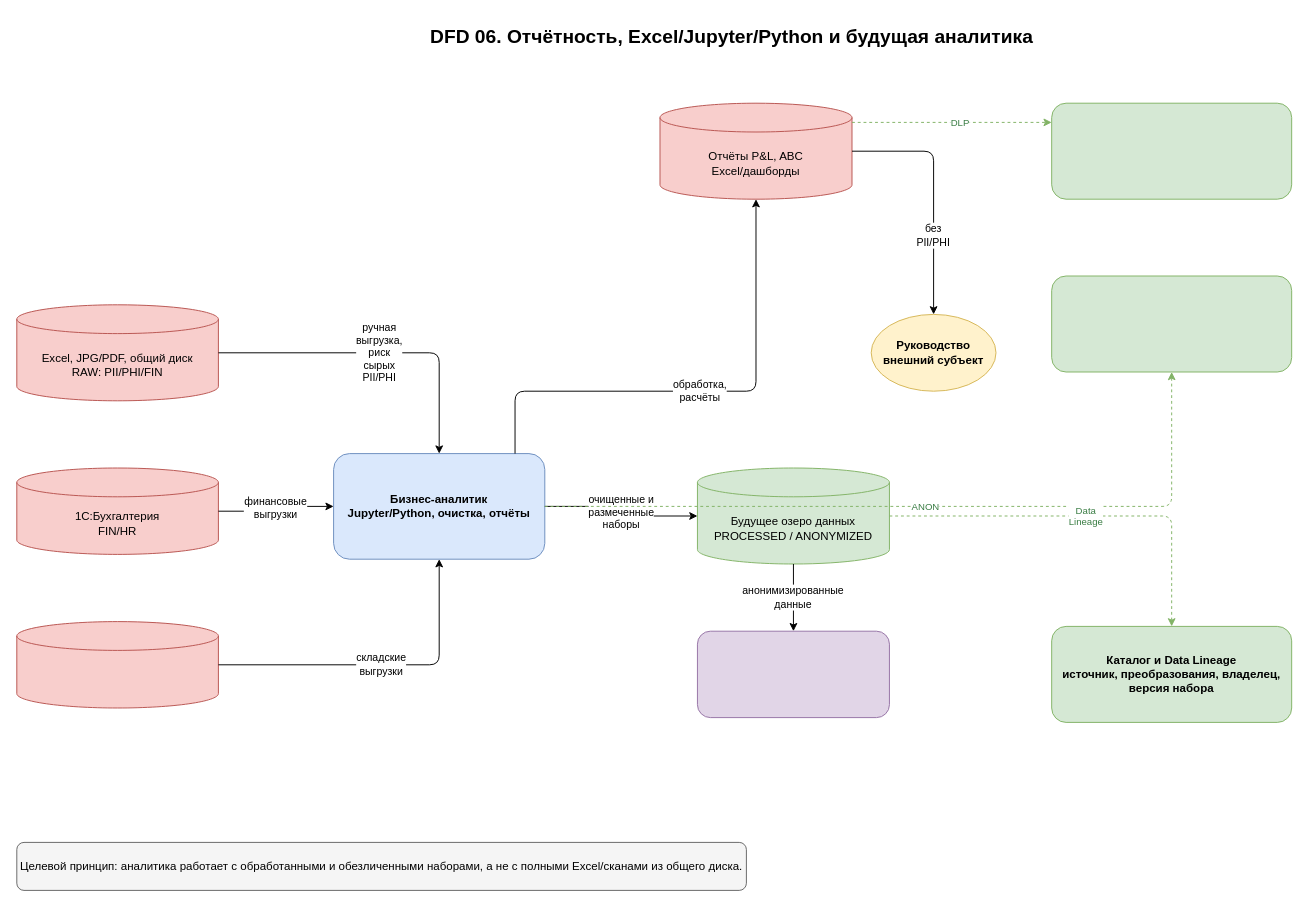
This 1308x907 diagram has some shape labels left out. The centre of each missing label's shape, as x and y in pixels:
"1С:Торговля и склад OPS" goes at [117,664].
"BI / ML / AI / LLM только обезличенные наборы" goes at [792,674].
"Запрет RAW PHI в аналитике минимизация и обезличивание до выгрузки" goes at [1171,323].
"Контроль экспорта DLP, аудит, доступ аналитика только к ANONYMIZED" goes at [1171,150].
